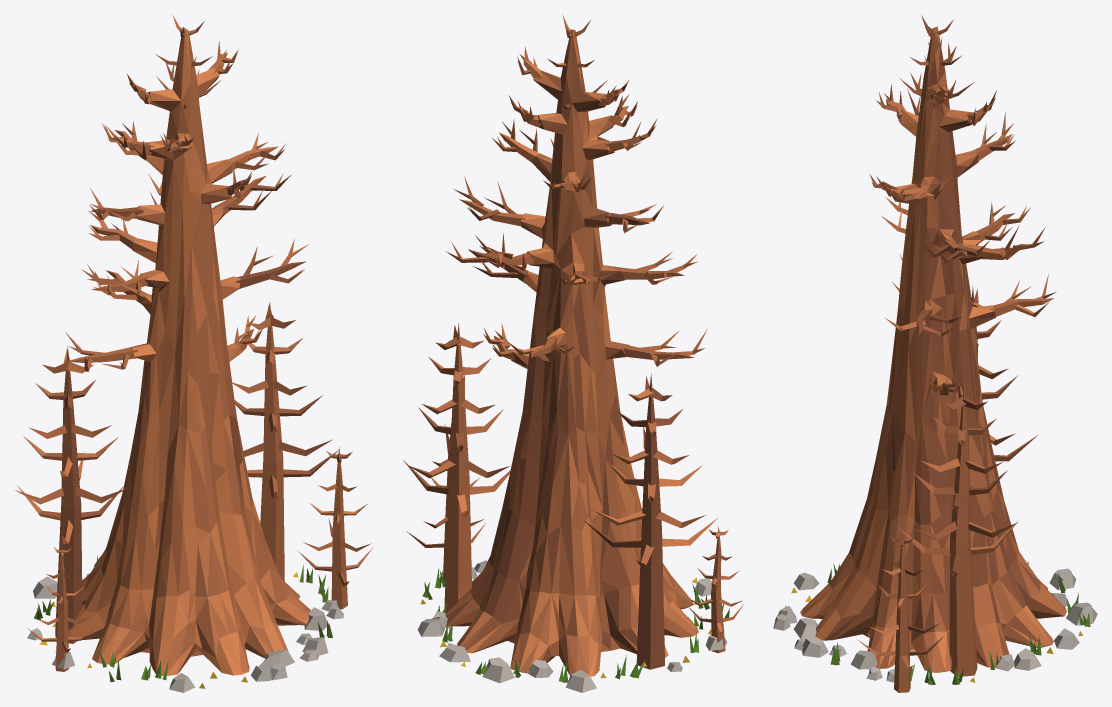
File: giant_sequoia_bare.glb
The picture shows the model from 3 angles, left to right: view 1: azimuth 30°, elevation 25°; view 2: azimuth 150°, elevation 25°; view 3: azimuth 270°, elevation 25°; orthographic projection.
Visible parts, largest first — view 1: giant_sequoia_bare; view 2: giant_sequoia_bare; view 3: giant_sequoia_bare.
Boxes of the visible parts, box(x1,y1,x2,y2) form: giant_sequoia_bare: box(15, 15, 373, 692); giant_sequoia_bare: box(403, 14, 743, 692); giant_sequoia_bare: box(773, 15, 1097, 692).
Size of the model in its own units: 26.62 by 45.52 by 22.2.
